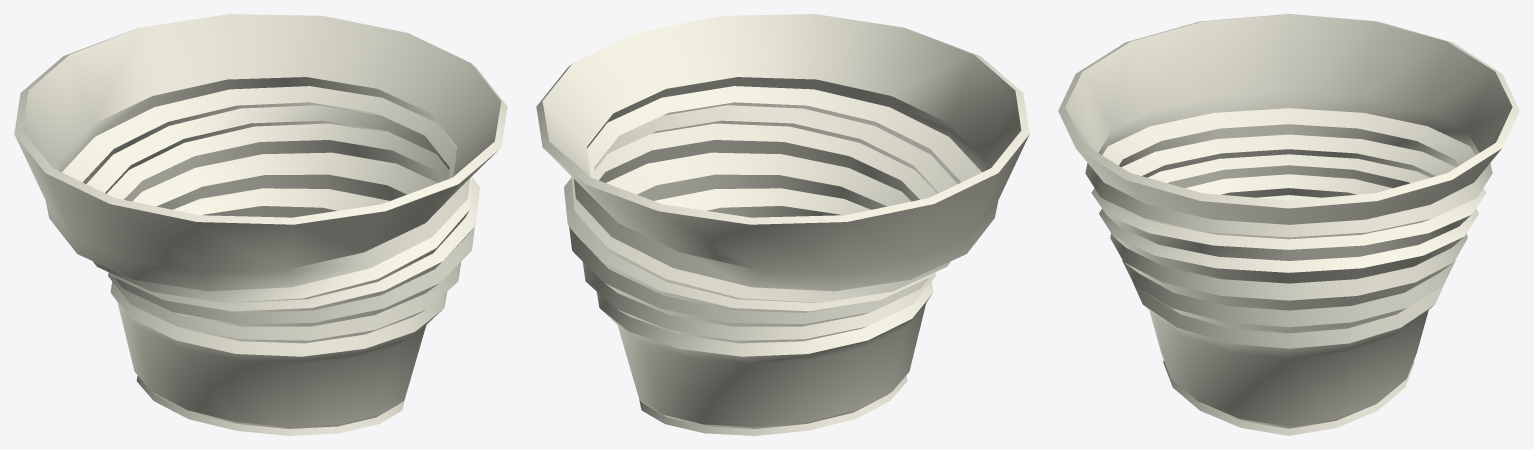
File: VasoPlastico_02.fbx
The picture shows the model from 3 angles, left to right: view 1: azimuth 30°, elevation 25°; view 2: azimuth 150°, elevation 25°; view 3: azimuth 270°, elevation 25°; orthographic projection. The views are drawn at different scales.
Visible parts, largest first — view 1: VasoPlastico_02; view 2: VasoPlastico_02; view 3: VasoPlastico_02.
Part boxes in pixels (x1,y1,x2,y2): VasoPlastico_02: (14,14,507,435); VasoPlastico_02: (536,14,1029,435); VasoPlastico_02: (1058,14,1519,435).
Bounding box in the file's own units: 29.16 × 19.26 × 29.23.
